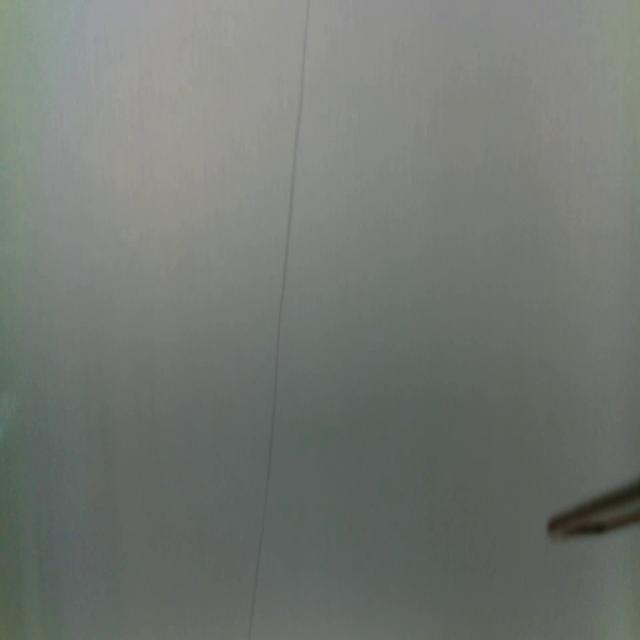crease: (240, 0, 313, 640)
